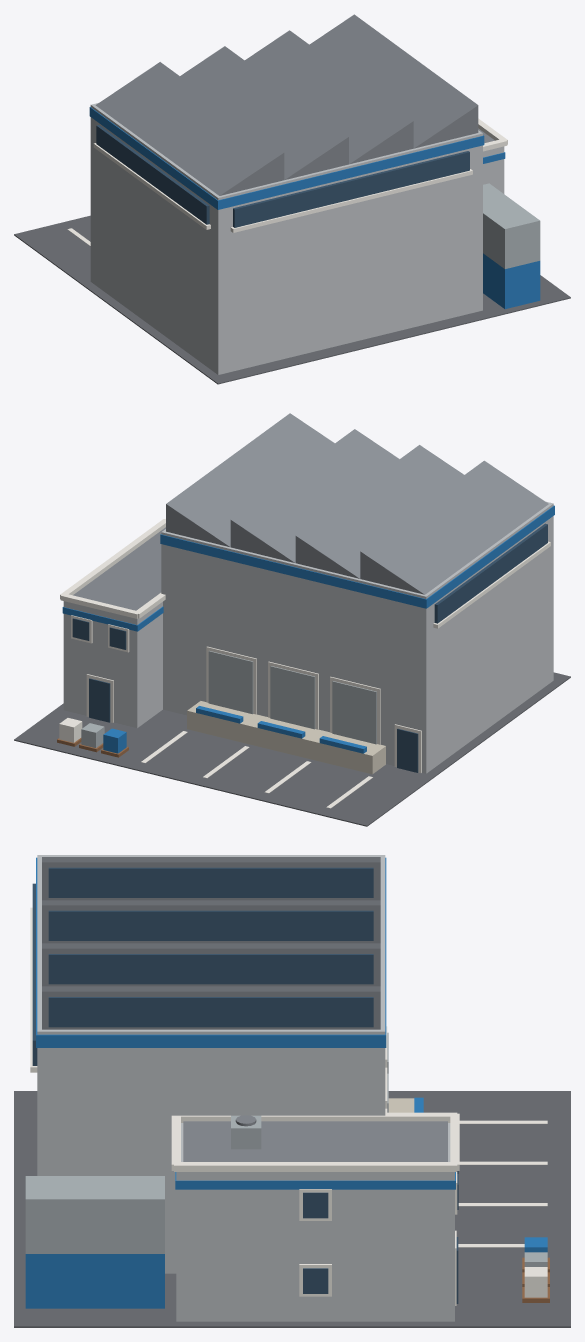
The picture shows the model from 3 angles, top to bottom: view 1: azimuth 30°, elevation 25°; view 2: azimuth 150°, elevation 25°; view 3: azimuth 270°, elevation 25°; orthographic projection. The views are drawn at different scales.
Parts seen in each view (by area): view 1: hall, roof (×4), yard, window_band (×2), container (×2), cladding_band, sill (×2), office; view 2: hall, roof (×5), yard, office, garage_door (×3), dock, cladding_band, window_band, garage_door_frame (×3), door (×2), parapet (×2), accent_stripe (+1 smaller); view 3: skylight (×4), office, hall, yard, roof (×5), container (×2), cladding_band, parapet (×2), accent_stripe, window_glass (×2), ac_unit_body, window_band (+1 smaller).
Boxes of the visible parts, bbox=[...] form: hall: bbox=[90, 103, 482, 374]; roof (×4): bbox=[95, 14, 478, 195]; yard: bbox=[14, 215, 570, 384]; window_band (×2): bbox=[96, 125, 469, 227]; container (×2): bbox=[483, 183, 540, 309]; cladding_band: bbox=[89, 107, 484, 209]; sill (×2): bbox=[93, 143, 472, 232]; office: bbox=[483, 146, 504, 193]; hall: bbox=[161, 501, 553, 773]; roof (×5): bbox=[73, 413, 548, 610]; yard: bbox=[14, 672, 570, 826]; office: bbox=[63, 601, 162, 728]; garage_door (×3): bbox=[208, 651, 376, 744]; dock: bbox=[187, 701, 385, 774]; cladding_band: bbox=[160, 505, 554, 608]; window_band: bbox=[434, 523, 547, 623]; garage_door_frame (×3): bbox=[206, 646, 380, 744]; door (×2): bbox=[89, 678, 418, 772]; parapet (×2): bbox=[60, 519, 165, 618]; accent_stripe: bbox=[62, 606, 163, 631]; skylight (×4): bbox=[48, 867, 373, 1027]; office: bbox=[176, 1123, 454, 1321]; hall: bbox=[37, 855, 385, 1273]; yard: bbox=[14, 1091, 570, 1327]; roof (×5): bbox=[42, 857, 447, 1161]; container (×2): bbox=[25, 1176, 164, 1308]; cladding_band: bbox=[36, 857, 386, 1047]; parapet (×2): bbox=[174, 1112, 457, 1171]; accent_stripe: bbox=[175, 1172, 455, 1189]; window_glass (×2): bbox=[303, 1192, 328, 1293]; ac_unit_body: bbox=[231, 1115, 261, 1149]; window_band: bbox=[32, 883, 37, 1065].
Bounding box in the file's own units: 24 × 13.37 × 24.
